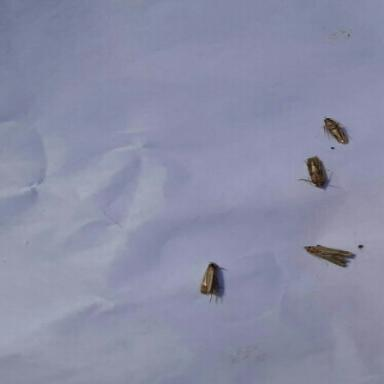pbw: (303, 244, 354, 267), (297, 155, 334, 185), (198, 260, 216, 302), (323, 115, 347, 144)
